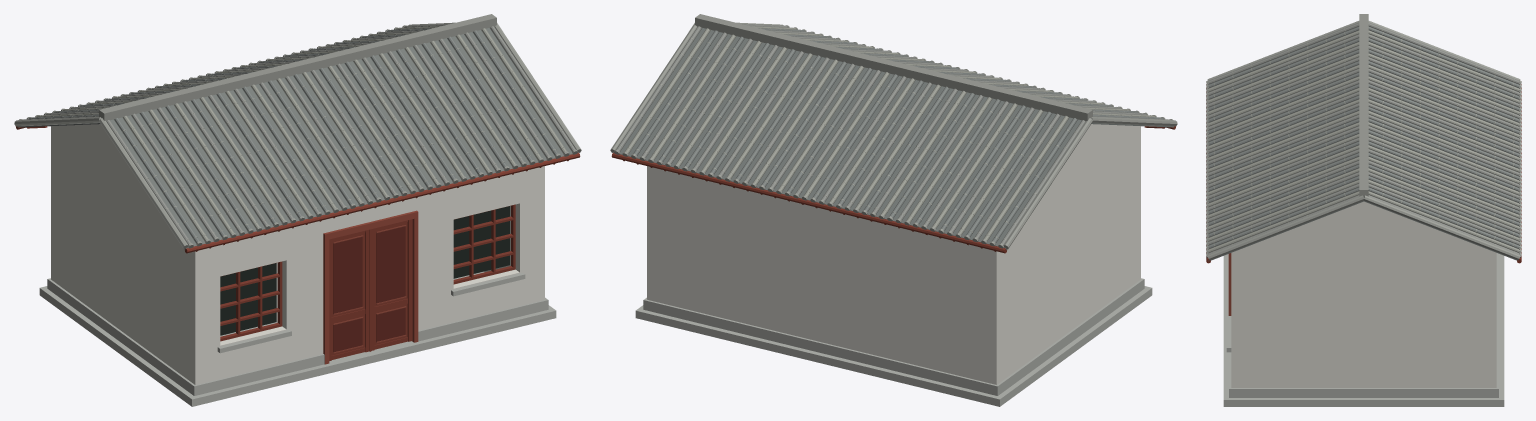
The model's file is chongming-west-guanting-web.glb.
3 views of the same model, side by side, from view 1: azimuth 30°, elevation 25°; view 2: azimuth 150°, elevation 25°; view 3: azimuth 270°, elevation 25° (orthographic). The views are drawn at different scales.
Bounding box in the file's own units: 11.15 × 6.5 × 8.34.
